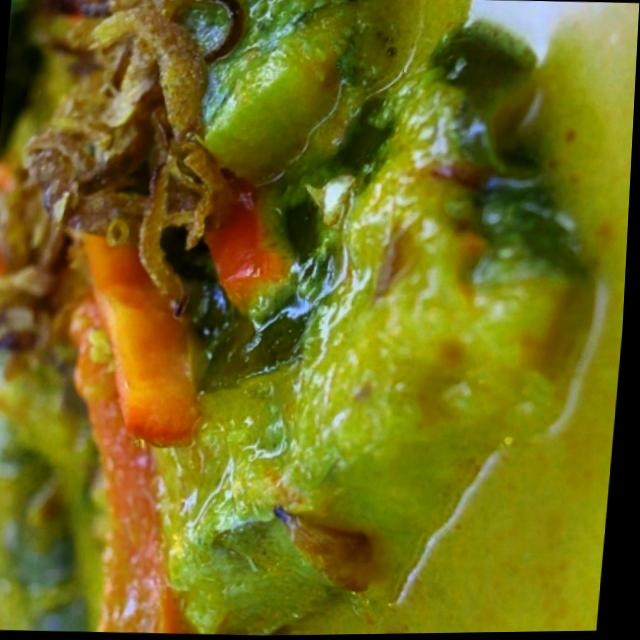熟制海鲜: (0, 3, 616, 640)
